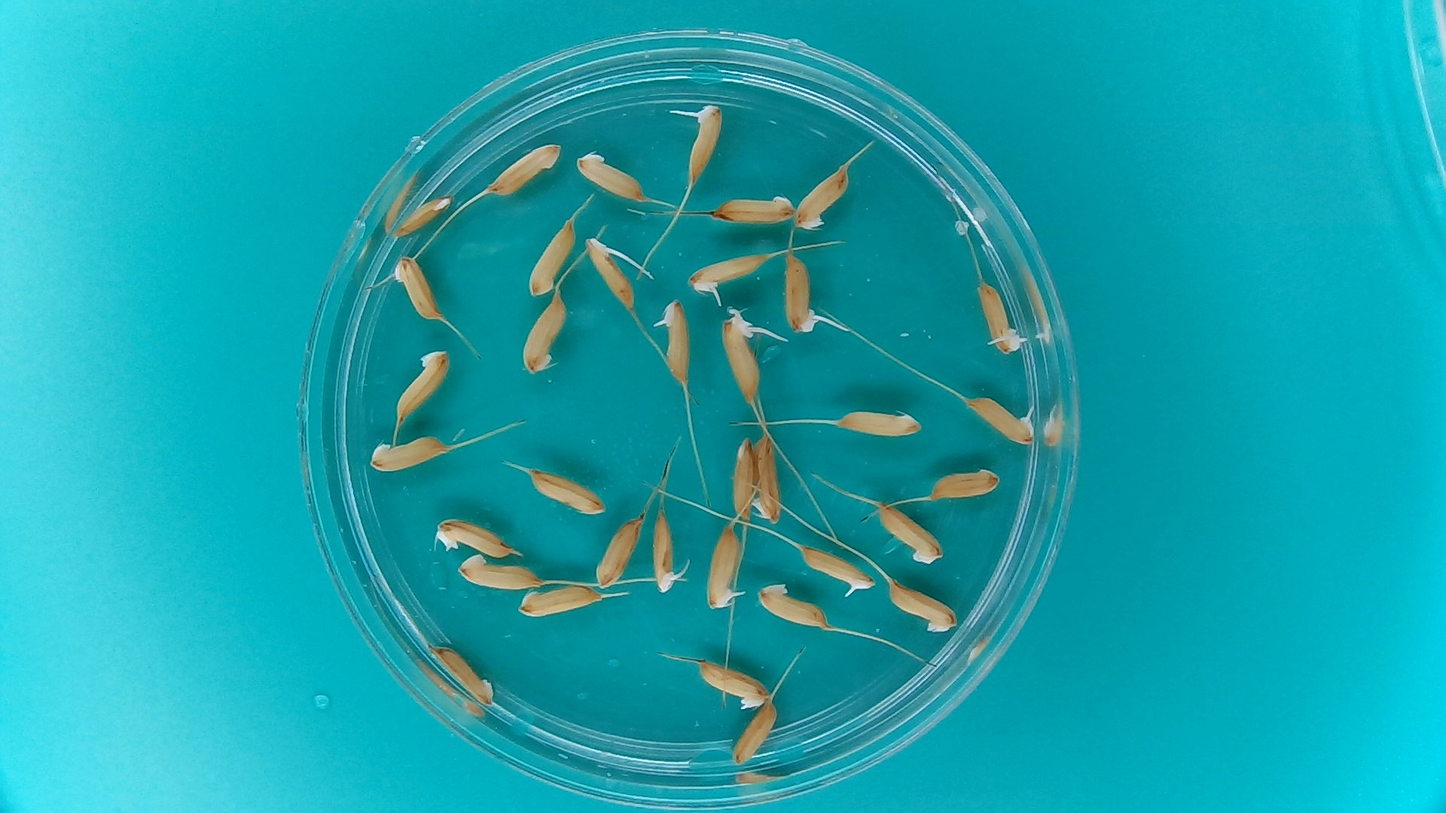no: (483, 135, 566, 199), (392, 345, 455, 424), (686, 657, 775, 712), (874, 500, 946, 565), (515, 290, 569, 376), (523, 217, 579, 297), (524, 466, 609, 517), (362, 428, 452, 475), (378, 255, 441, 322), (572, 150, 649, 203), (590, 515, 645, 589), (426, 518, 522, 560), (754, 580, 833, 631), (792, 164, 853, 230), (751, 434, 794, 525), (886, 579, 958, 632), (831, 403, 927, 440), (450, 555, 544, 592), (729, 700, 777, 768), (512, 584, 604, 619), (724, 437, 761, 522), (709, 190, 798, 225), (390, 192, 455, 239), (929, 462, 1005, 502)
yes: (718, 314, 764, 406), (701, 525, 749, 611), (796, 548, 875, 596), (964, 394, 1036, 446), (976, 279, 1023, 358), (590, 239, 641, 310), (685, 253, 773, 291), (647, 513, 683, 598), (659, 296, 693, 382), (781, 254, 816, 335), (688, 103, 722, 179)
